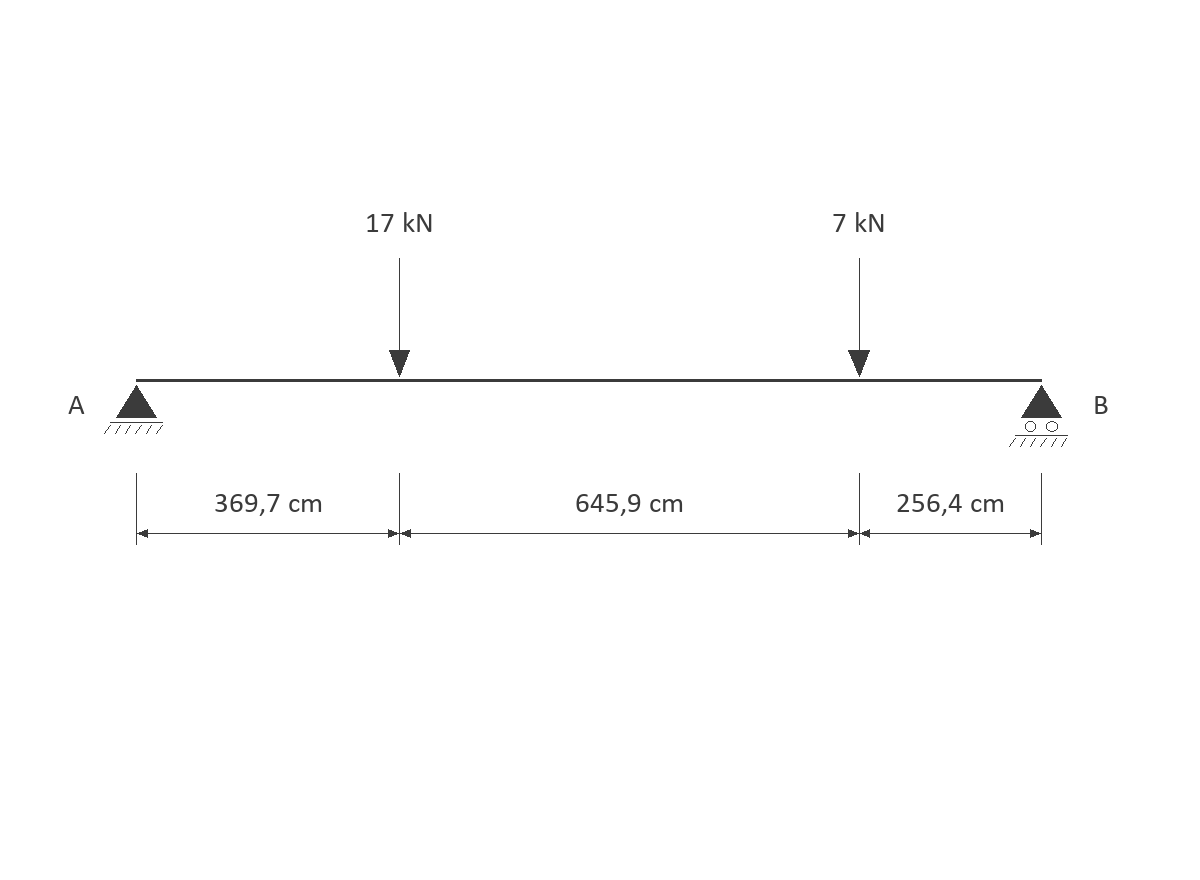pin_support: (104, 385, 163, 434)
point_load: (848, 258, 870, 377), (389, 258, 410, 377)
roller_support: (1009, 385, 1068, 447)
